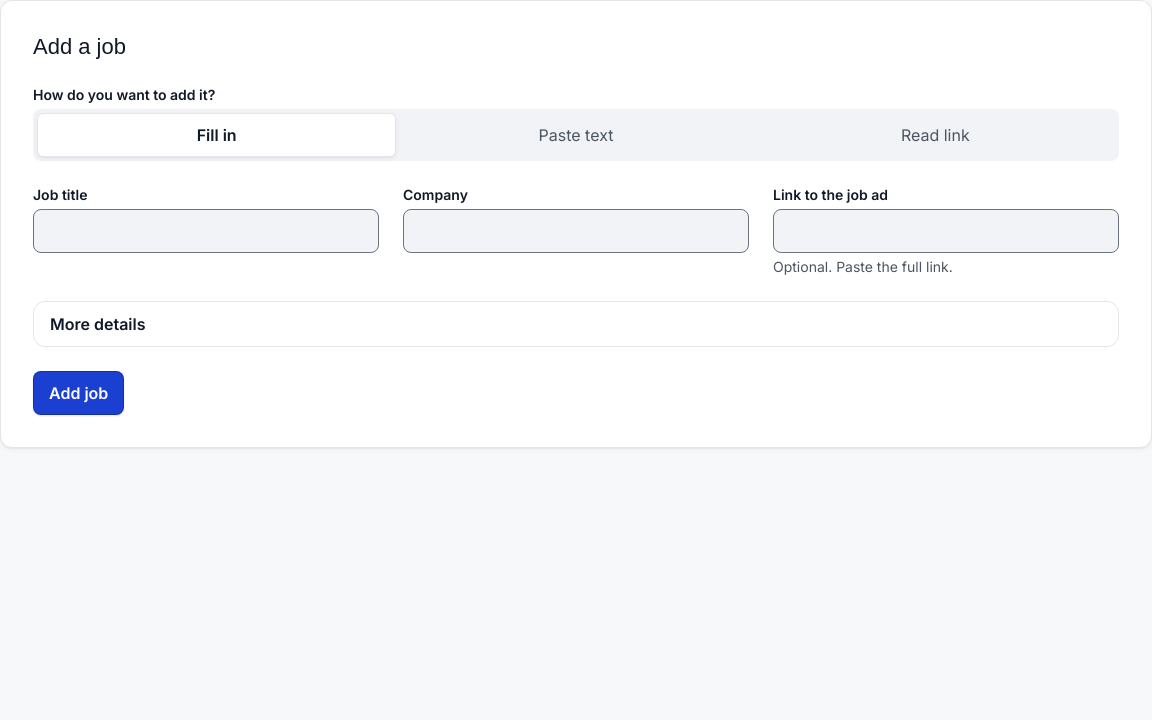
AddJob › fills only empty fields on a read, so typing is preserved
Click the radio button labelled "Read link" at (935, 134), box left=756, top=112, right=1115, bottom=156
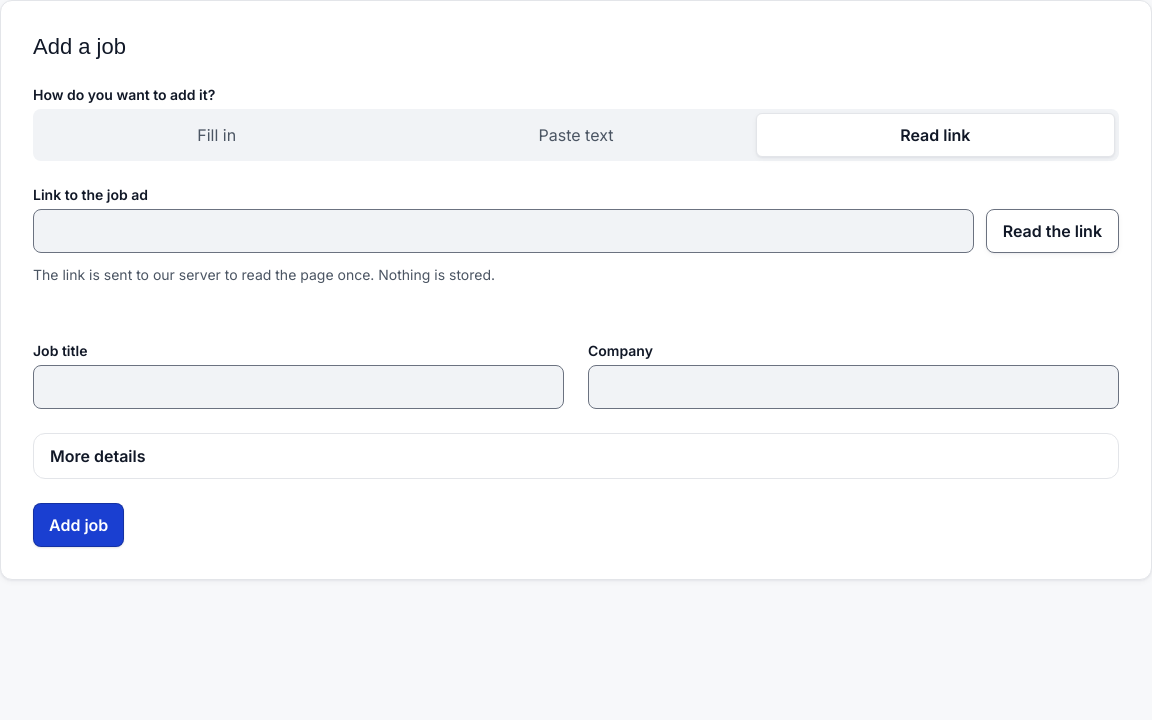
Type "My own title" into the field labelled "Job title" at (298, 386), box left=33, top=364, right=564, bottom=408
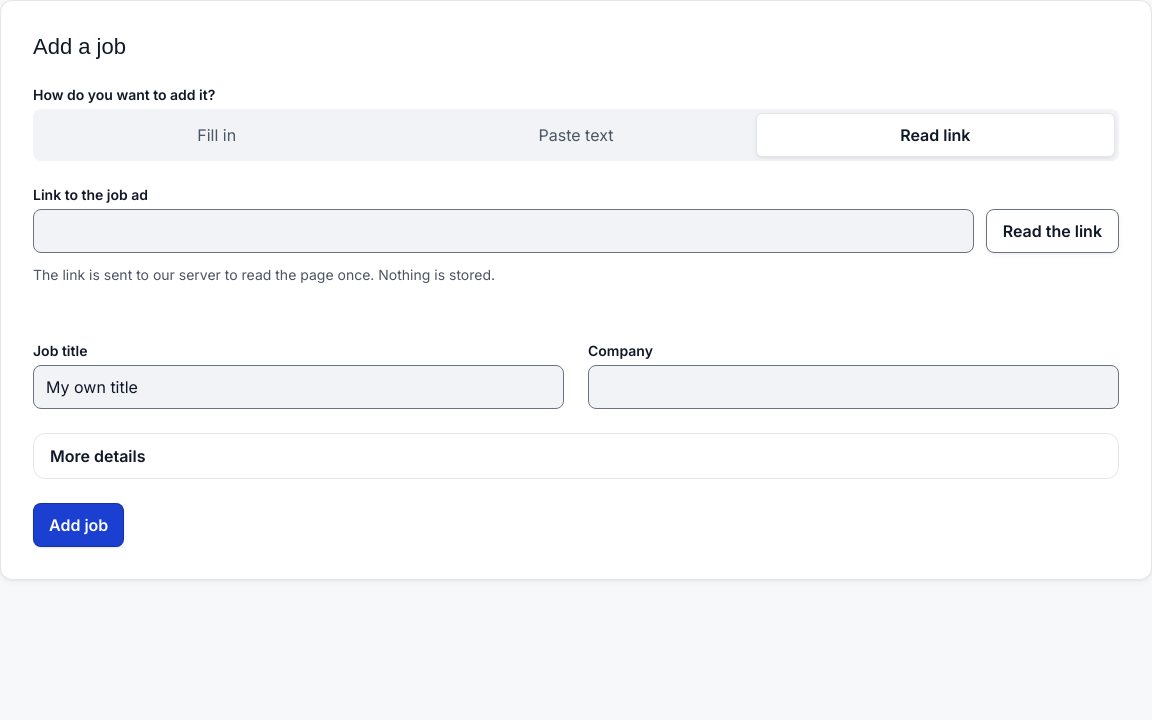
Type "https://example.com/ad" into the field labelled "Link to the job ad" at (503, 230), box left=33, top=208, right=974, bottom=252
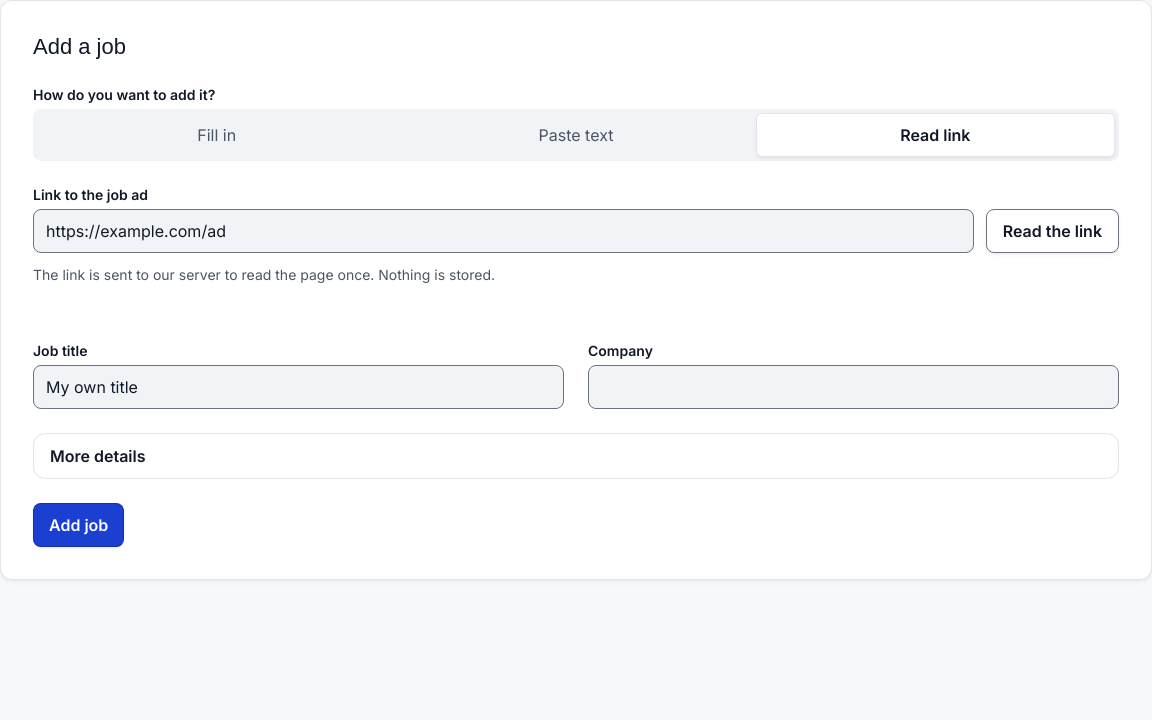
Click the button "Read the link" at (1052, 230), box left=986, top=208, right=1119, bottom=252
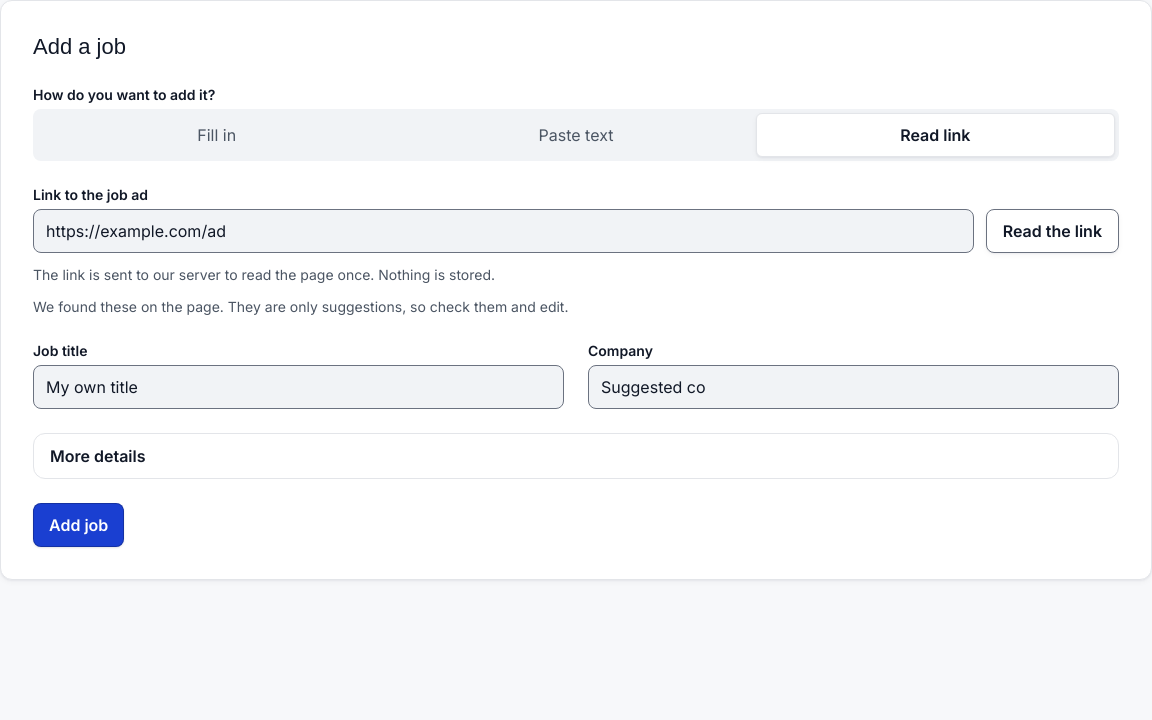
Expected: the text "We found these on the page. They are only suggestions, so check them and edit." is shown, left=33, top=298, right=568, bottom=314
Expected: the field labelled "Company" holds "Suggested co", left=588, top=364, right=1119, bottom=408
